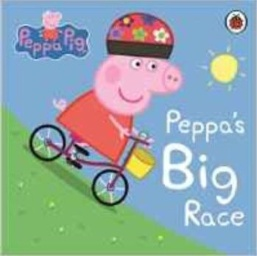Peppa: (52, 55, 183, 179)
